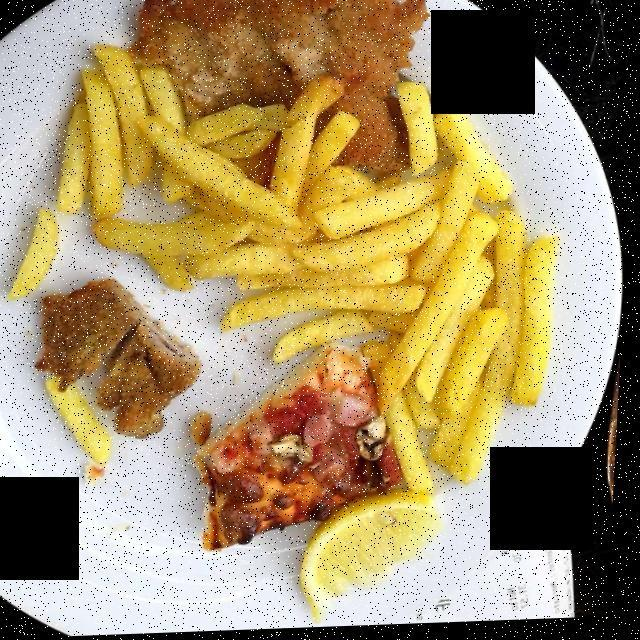breadcrumbs: (39, 191, 347, 437), (123, 0, 426, 191)
chips-french-fries: (38, 42, 556, 483)
lemon: (309, 497, 443, 619)
pizza: (198, 362, 419, 553)
pork: (21, 0, 439, 443)
